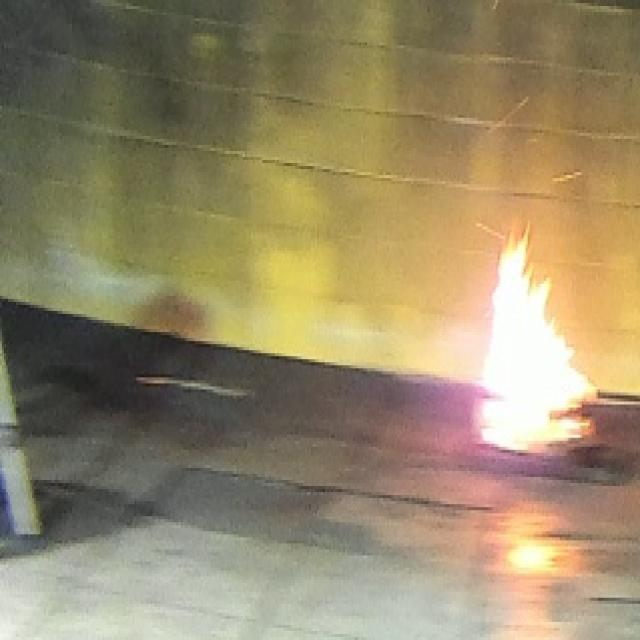Fire: (481, 221, 598, 452)
